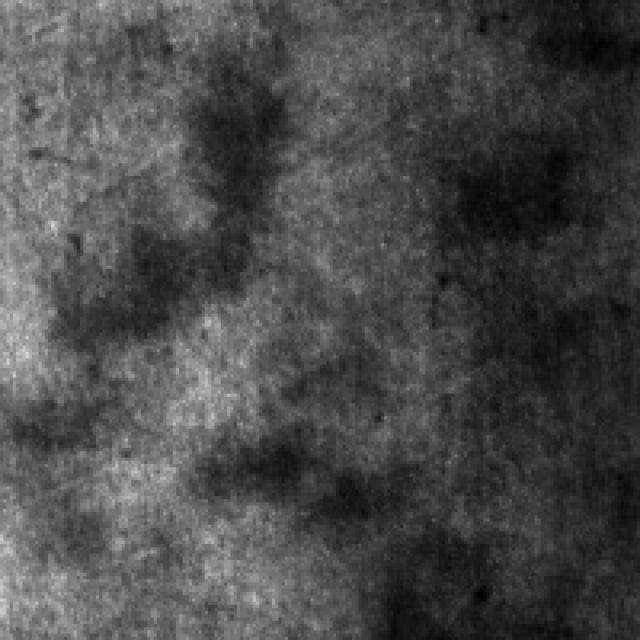patches: (51, 208, 282, 365), (176, 35, 314, 253), (192, 412, 416, 538), (442, 128, 598, 253), (371, 518, 525, 634), (515, 0, 640, 77)
